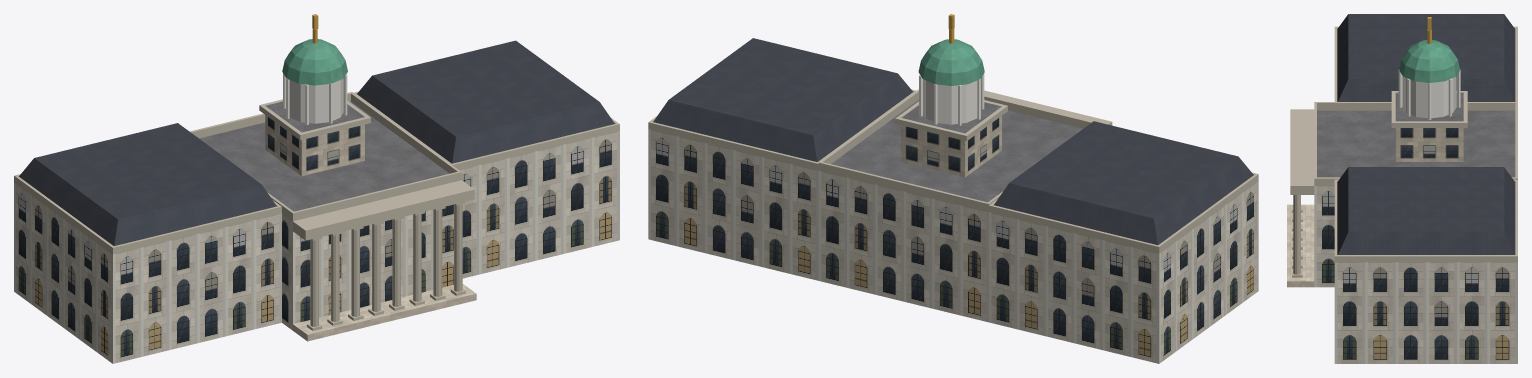
File: 075_city_hall.glb
3 views of the same model, side by side, from view 1: azimuth 30°, elevation 25°; view 2: azimuth 150°, elevation 25°; view 3: azimuth 270°, elevation 25° (orthographic). The views are drawn at different scales.
Parts seen in each view (by area): view 1: 075_city_hall; view 2: 075_city_hall; view 3: 075_city_hall.
Part boxes in pixels (x1,y1,x2,y2): 075_city_hall: (14,14,619,363); 075_city_hall: (648,14,1258,363); 075_city_hall: (1287,14,1517,363).
Bounding box in the file's own units: 80 × 37.6 × 34.
Materials: 9 (6 with a texture image).
